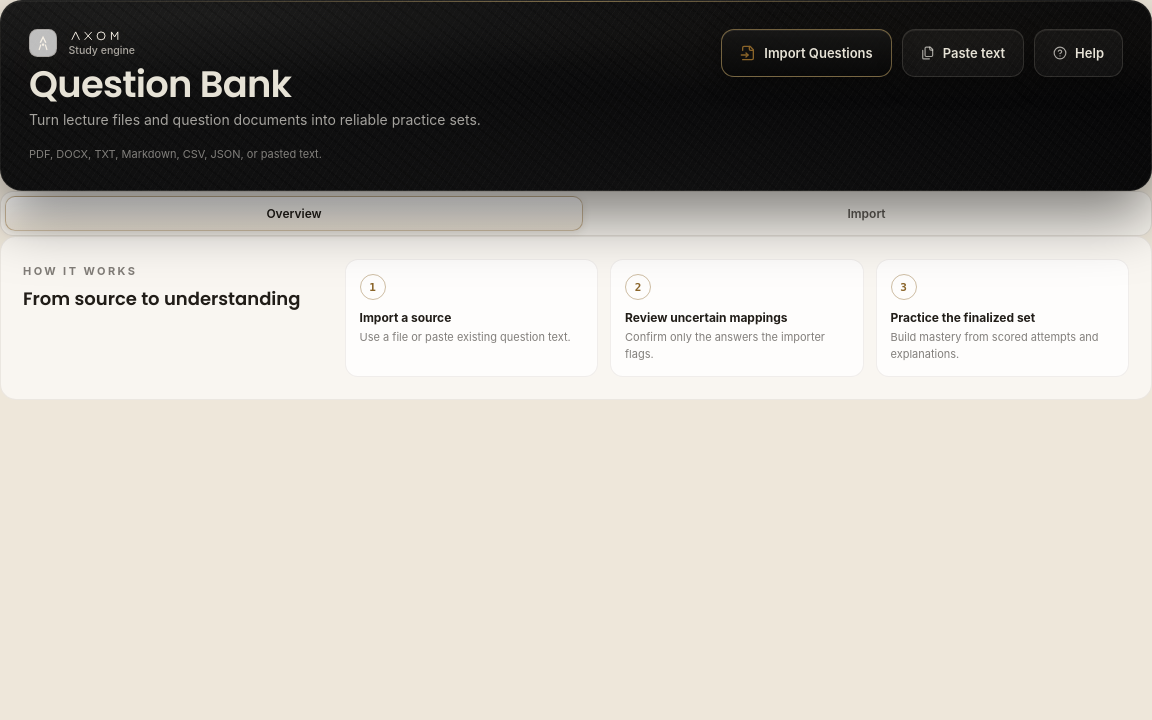
Test case: QuestionWorkspacePage first use › opens a same-route, missing-target-safe Question Bank tour
Click the button with aria-label "Open Question Bank help tour": x=1079, y=53 [1034,29,1123,77]
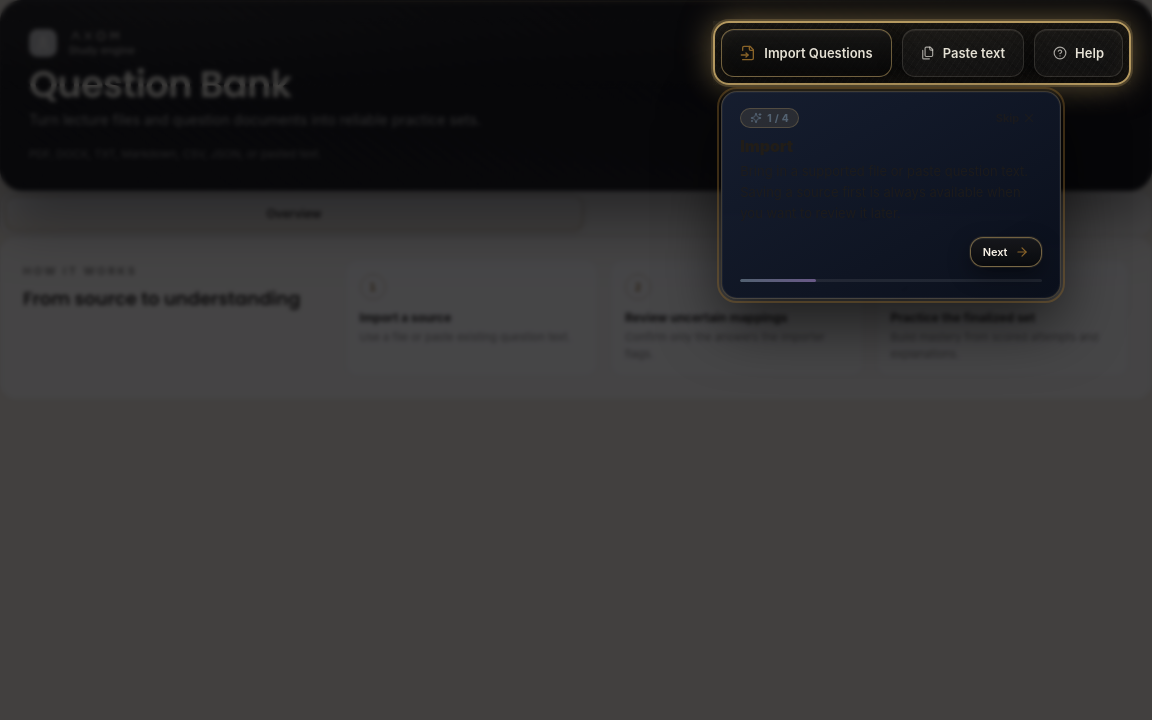
expect the dialog "Import" is shown: met, box [721,91,1061,299]
Click the button "Next": x=1006, y=252 [970,237,1042,267]
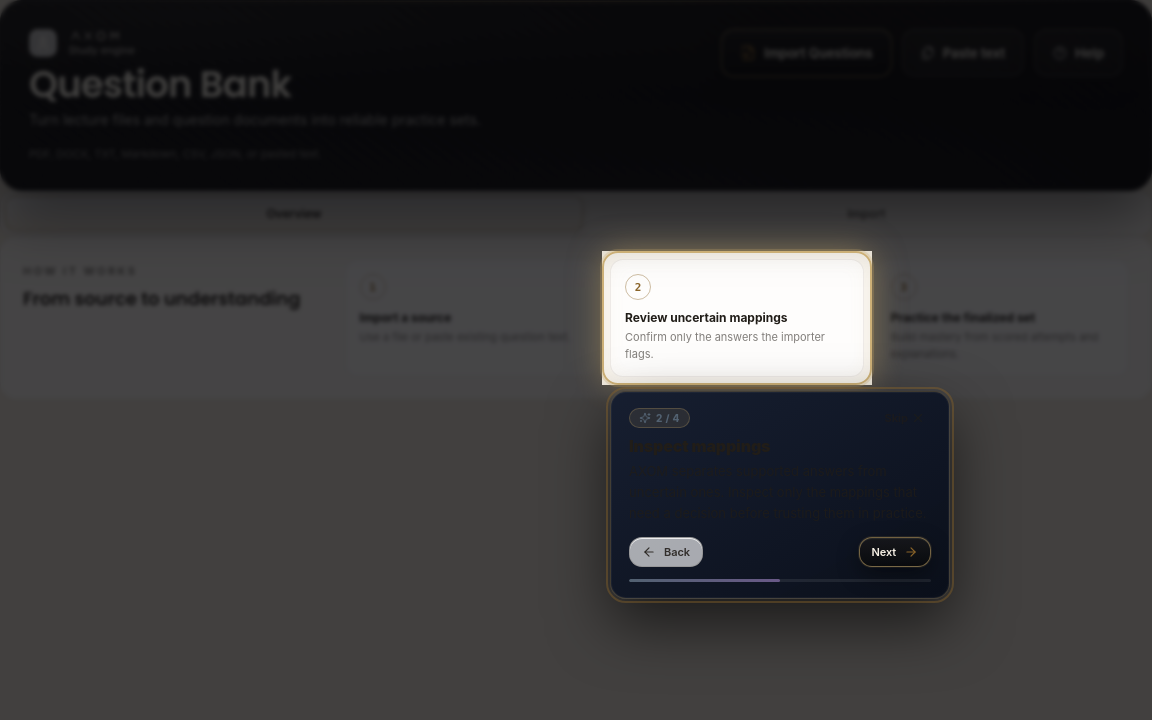
expect the dialog "Inspect mappings" is shown: met, box [610,391,950,600]
Press Escape
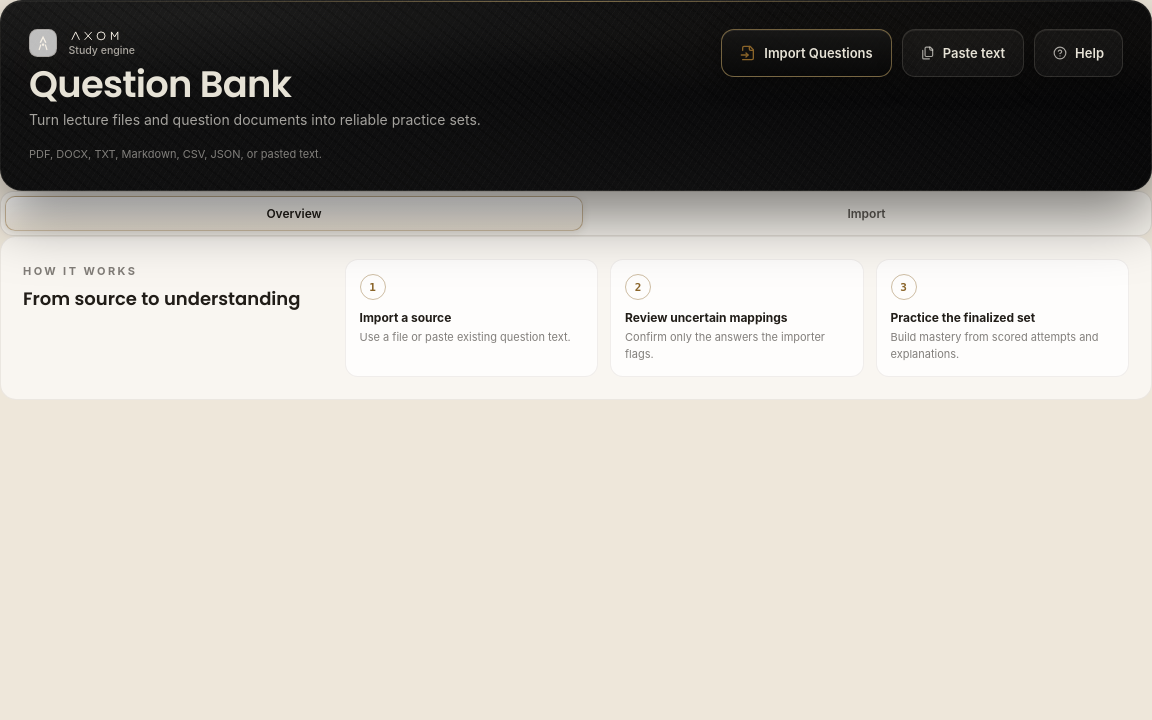
expect the text "Inspect mappings" is gone: met
